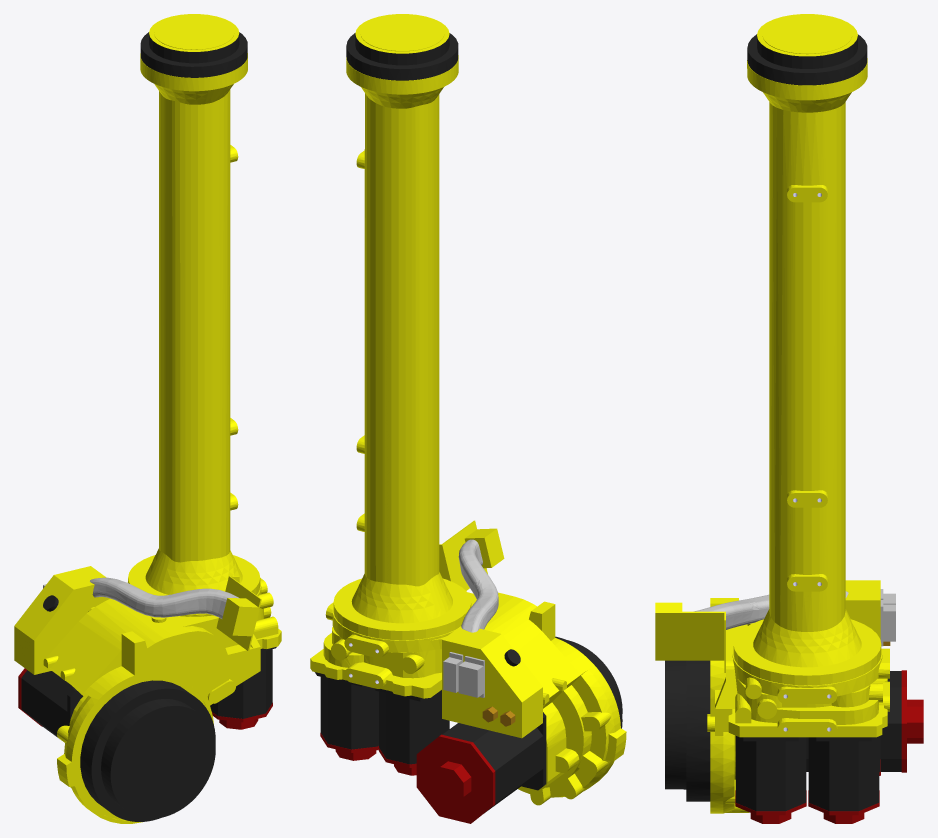
The picture shows the model from 3 angles, left to right: view 1: azimuth 30°, elevation 25°; view 2: azimuth 150°, elevation 25°; view 3: azimuth 270°, elevation 25°; orthographic projection. The views are drawn at different scales.
Parts seen in each view (by area): view 1: node; view 2: node; view 3: node.
Part boxes in pixels (x1=…): node: x1=14, y1=14, x2=281, y2=823; node: x1=310, y1=14, x2=626, y2=823; node: x1=655, y1=14, x2=923, y2=823.
Bounding box in the file's own units: 550 × 1668 × 494.
